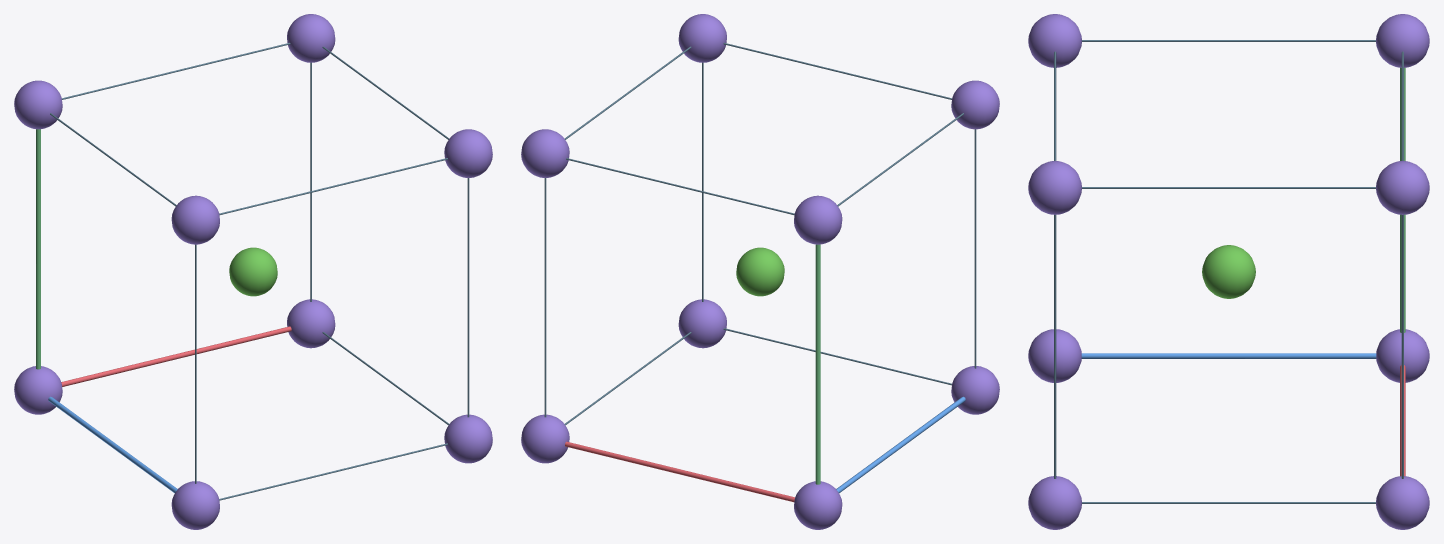
Rendered from chat-cesium-chloride.glb.
3 renders of one model, left to right at view 1: azimuth 30°, elevation 25°; view 2: azimuth 150°, elevation 25°; view 3: azimuth 270°, elevation 25°, orthographic. The views are drawn at different scales.
Visible parts, largest first — view 1: Cs · Cs · 1 (×8), Ô mạng và các trục a, b, c, Cl · Cl · 1; view 2: Cs · Cs · 1 (×8), Ô mạng và các trục a, b, c, Cl · Cl · 1; view 3: Cs · Cs · 1 (×8), Ô mạng và các trục a, b, c, Cl · Cl · 1.
Boxes of the visible parts, <box> form: Cs · Cs · 1 (×8): <box>14,14,492,529</box>; Ô mạng và các trục a, b, c: <box>36,42,469,500</box>; Cl · Cl · 1: <box>229,247,277,296</box>; Cs · Cs · 1 (×8): <box>521,14,999,529</box>; Ô mạng và các trục a, b, c: <box>544,42,976,502</box>; Cl · Cl · 1: <box>736,247,784,296</box>; Cs · Cs · 1 (×8): <box>1028,14,1429,529</box>; Ô mạng và các trục a, b, c: <box>1054,40,1405,503</box>; Cl · Cl · 1: <box>1202,245,1255,298</box>.
Bounding box in the file's own units: 4.76 × 4.76 × 4.76.
